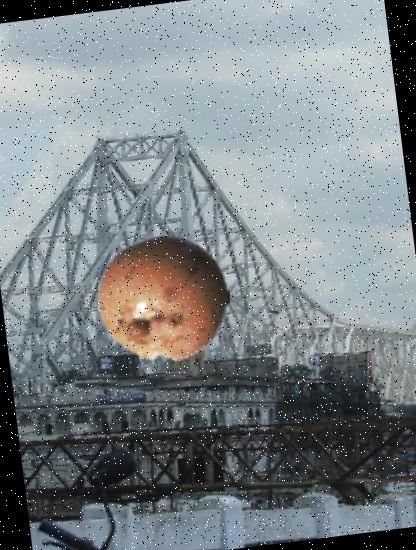Granadilla: (90, 224, 238, 372)
